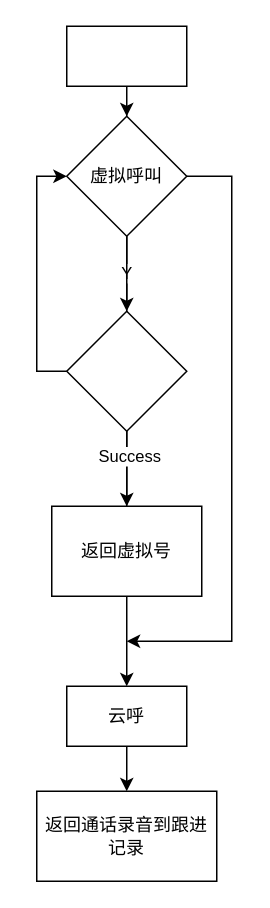
The diagram is 270 pixels wide and 908 high, and some of its shapes have lost their labels. The centre of each missing label's shape, as x and y in pixels:
为客户申请虚拟号: point 126,370
呼叫: point 126,55
